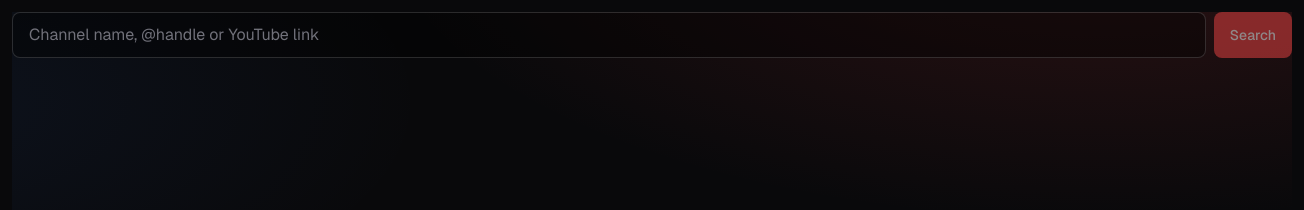
Test: SearchBox › shows a quota message on 429
Type "anything" into the field at (609, 35), box [12,12,1206,58]
Then press Enter
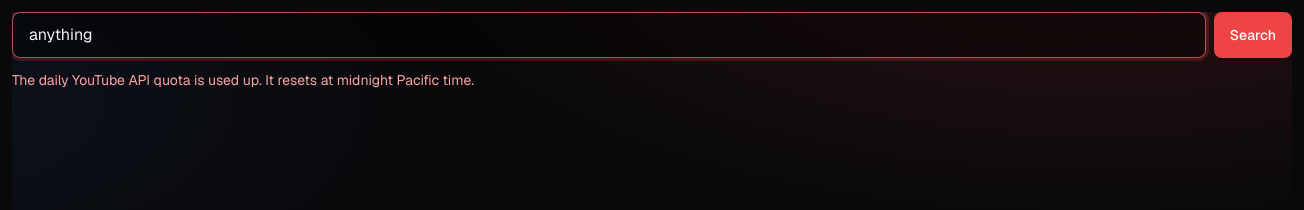
Expected: the message shows "quota", [12,71,474,89]
